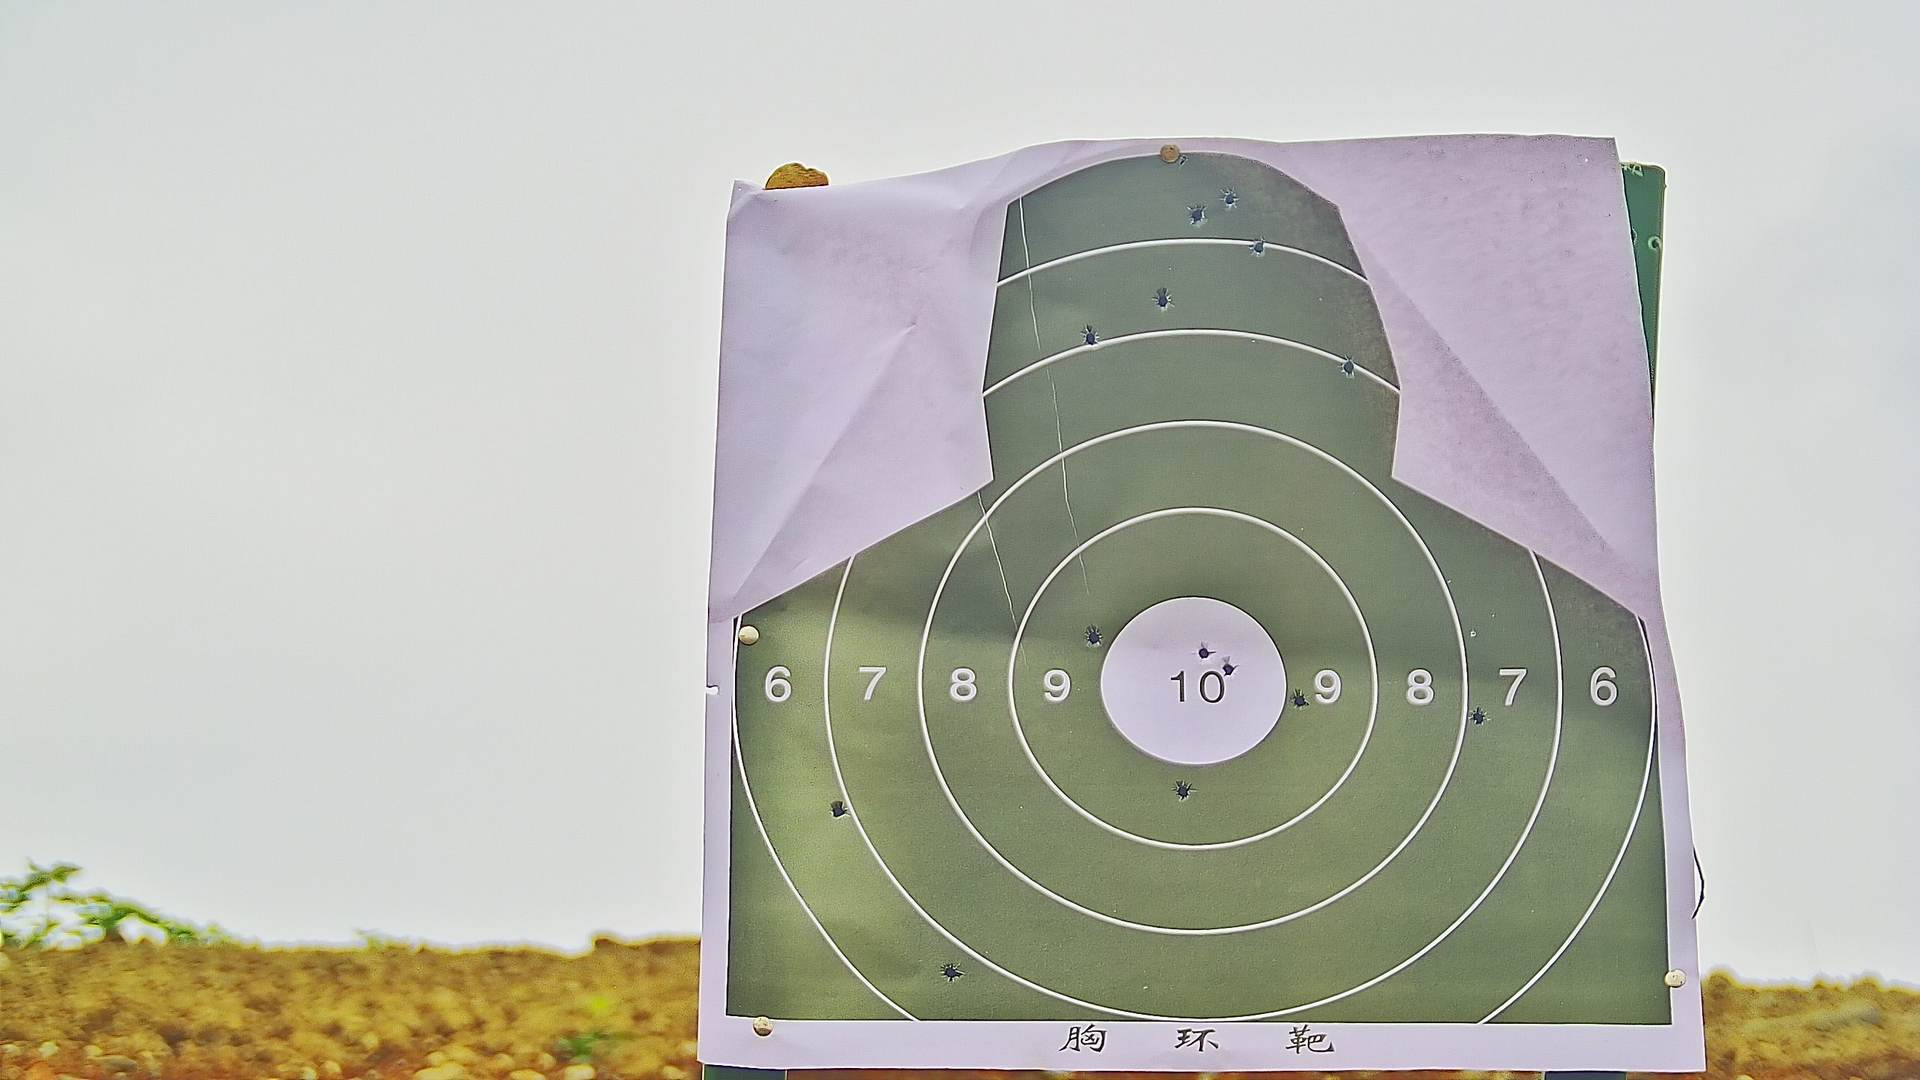hole: (942, 964, 960, 982), (1224, 187, 1238, 208), (1251, 237, 1269, 255), (829, 803, 848, 819), (1292, 692, 1309, 708), (1156, 289, 1170, 309), (1189, 206, 1205, 222), (1472, 708, 1486, 725), (1342, 357, 1354, 377), (1083, 328, 1097, 344), (1087, 626, 1101, 642), (1222, 661, 1236, 676), (1176, 783, 1189, 798), (1197, 644, 1209, 659)
kernel: (1188, 688, 1196, 692)
target: (731, 157, 1663, 1019)
ten: (1095, 589, 1288, 769)
